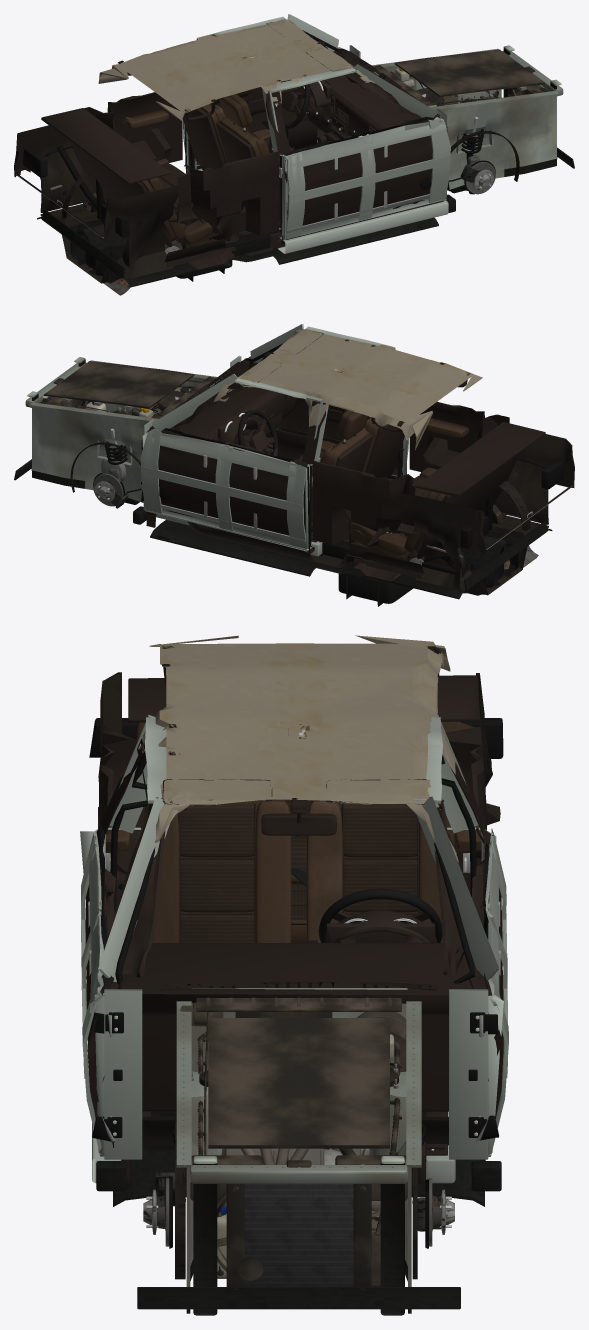
File: gol-quadrado_completo.glb
3 views of the same model, one above another, from view 1: azimuth 30°, elevation 25°; view 2: azimuth 150°, elevation 25°; view 3: azimuth 270°, elevation 25° (orthographic). The views are drawn at different scales.
Parts seen in each view (by area): view 1: interior_forro_teto, door_card_fr_chapa, interior_portamalas_carpete, engine_paralama_interno_dir, interior_lateral_traseira_dir, door_card_fr, interior_painel, hood_manta, interior_portamalas_tampao, interior_lateral_traseira_esq, interior_banco_traseiro, under_assoalho (+21 smaller); view 2: interior_forro_teto, interior_portamalas_carpete, door_card_fl_chapa, engine_paralama_interno_esq, interior_lateral_traseira_esq, door_card_fl, under_assoalho, hood_manta, interior_painel, interior_portamalas_tampao, interior_lateral_traseira_dir, interior_banco_traseiro (+21 smaller); view 3: interior_forro_teto, interior_painel, hood_manta, interior_banco_dianteiro_dir, engine_radiador, interior_banco_dianteiro_esq, engine_travessa, jamb_fl_colunas, jamb_fr_colunas, under_saias, engine_corta_fogo, interior_acabamento_colunas (+24 smaller).
Part boxes in pixels (x1,y1,x2,y2): interior_forro_teto: (98,21,374,120); door_card_fr_chapa: (280,117,450,239); interior_portamalas_carpete: (14,125,178,283); engine_paralama_interno_dir: (430,91,559,190); interior_lateral_traseira_dir: (168,151,279,269); door_card_fr: (284,115,440,225); interior_painel: (290,51,439,139); hood_manta: (394,49,544,98); interior_portamalas_tampao: (41,108,170,183); interior_lateral_traseira_esq: (84,92,182,162); interior_banco_traseiro: (68,140,239,248); under_assoalho: (37,216,438,287); interior_forro_teto: (214,329,482,450); interior_portamalas_carpete: (413,434,574,595); door_card_fl_chapa: (140,429,312,551); engine_paralama_interno_esq: (29,402,158,502); interior_lateral_traseira_esq: (312,461,420,581); door_card_fl: (147,426,306,535); under_assoalho: (150,519,552,599); hood_manta: (44,361,194,409); interior_painel: (149,362,299,443); interior_portamalas_tampao: (415,422,545,497); interior_lateral_traseira_dir: (409,401,509,471); interior_banco_traseiro: (349,452,520,560); interior_forro_teto: (142,635,458,862); interior_painel: (119,910,472,1111); hood_manta: (208,1017,389,1148); interior_banco_dianteiro_dir: (144,799,291,942); engine_radiador: (226,1164,371,1290); interior_banco_dianteiro_esq: (306,800,454,942); engine_travessa: (190,1148,407,1315); jamb_fl_colunas: (413,715,499,1159); jamb_fr_colunas: (98,715,174,1159); under_saias: (96,1161,501,1309); engine_corta_fogo: (180,988,407,1155); interior_acabamento_colunas: (101,743,485,977).
Size of what is drawn, in the model's own units: 3.65 by 1.42 by 1.42.
53 materials, 53 textured.
